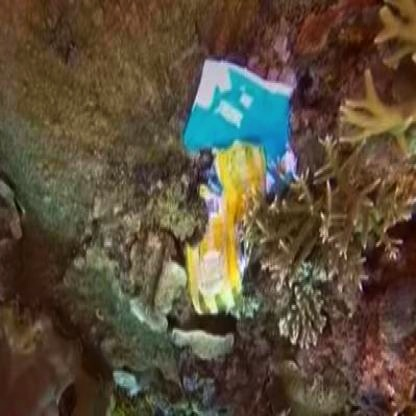plastic: (181, 41, 308, 314)
